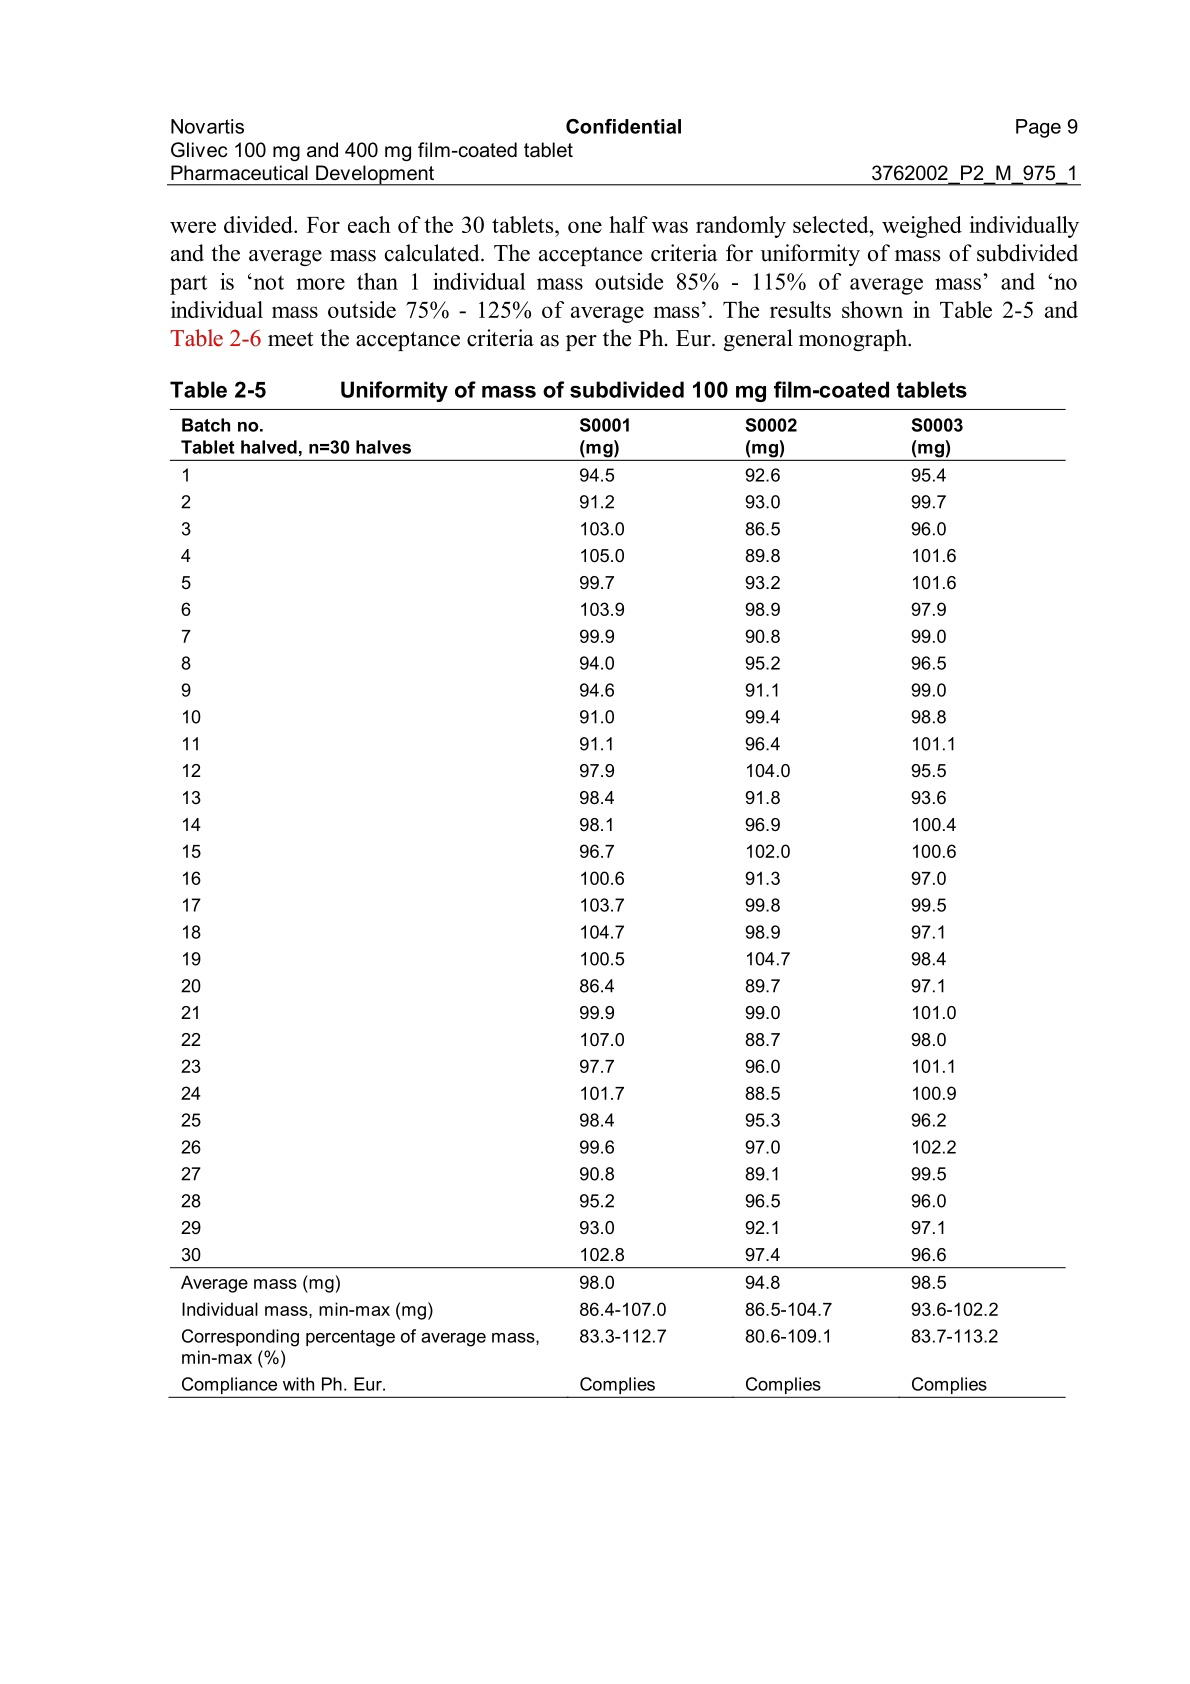partial_lined: (167, 407, 1066, 1399)
